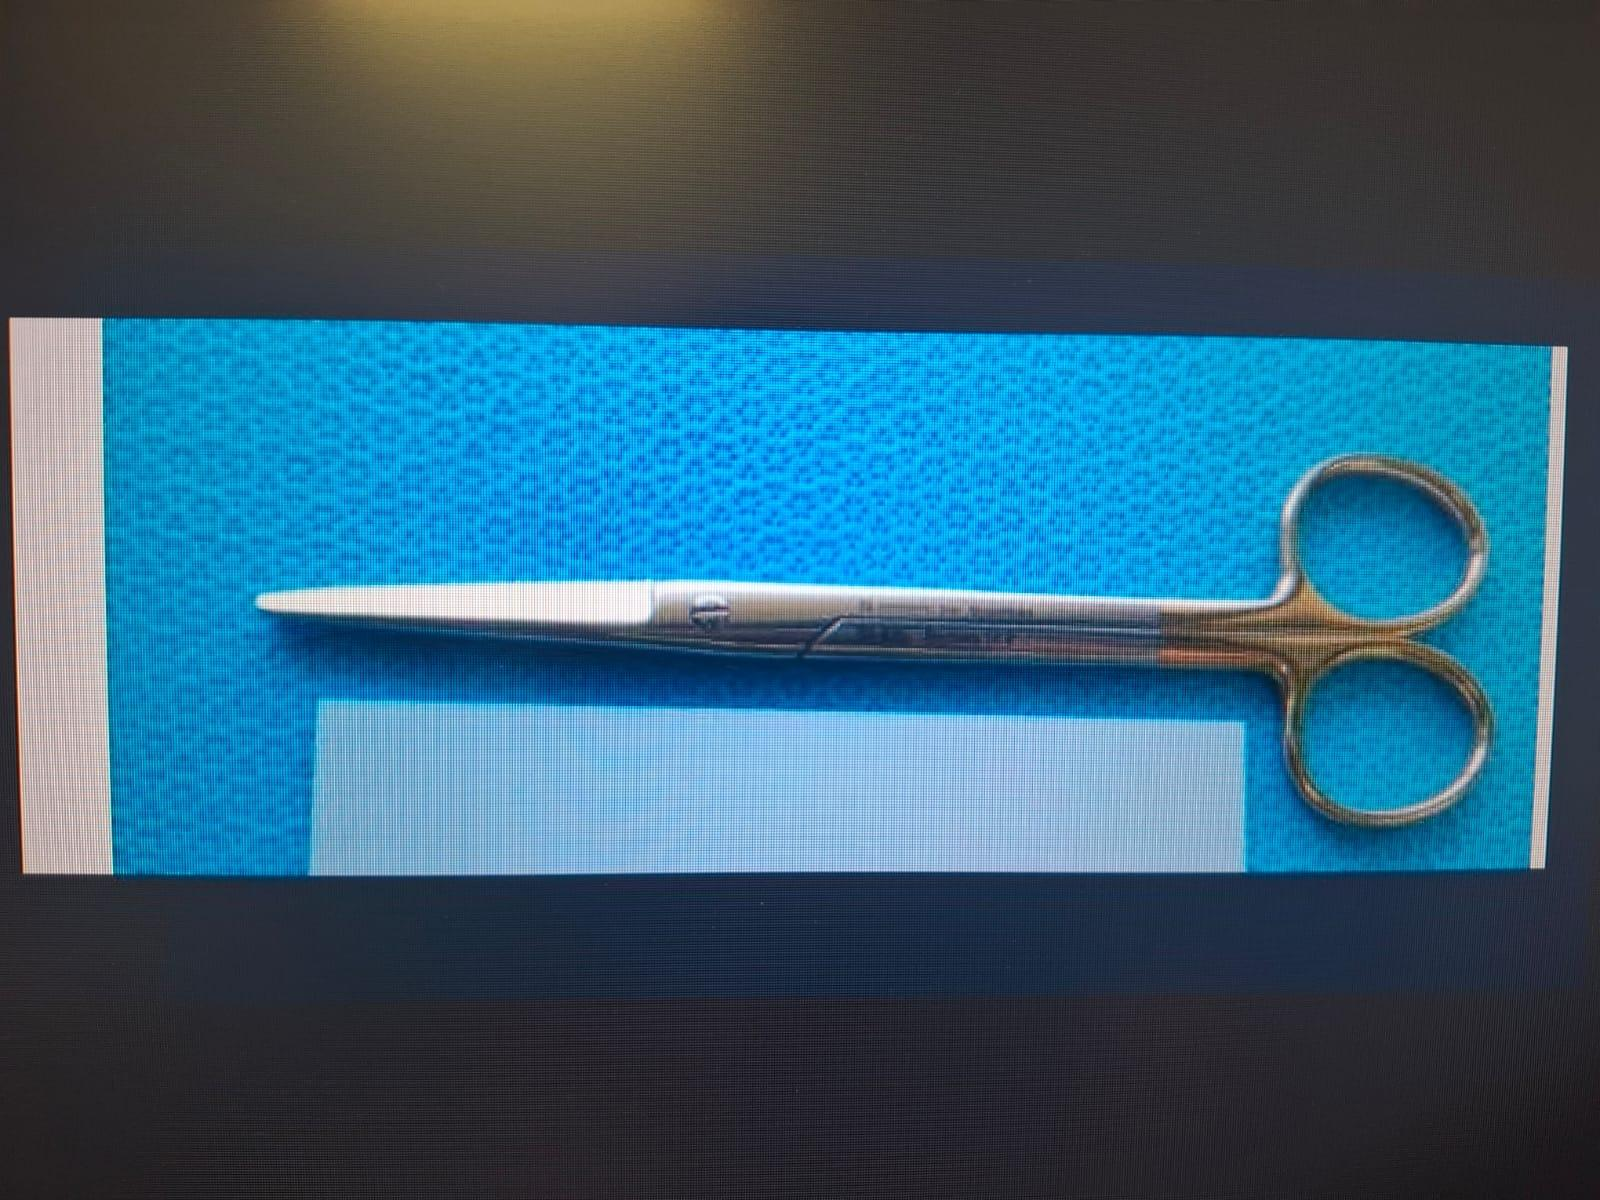Straight Mayo: (254, 446, 1508, 846)
